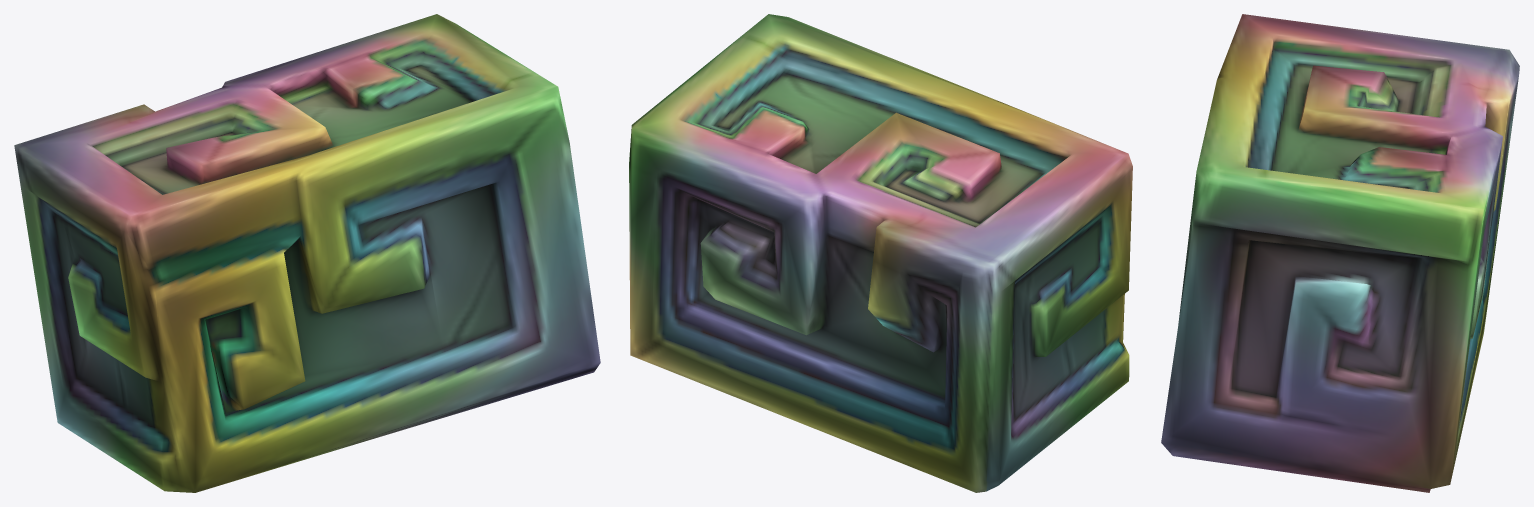
File: SM_Gem_Bismuth_005.fbx
3 renders of one model, left to right at view 1: azimuth 30°, elevation 25°; view 2: azimuth 150°, elevation 25°; view 3: azimuth 270°, elevation 25°, orthographic. The views are drawn at different scales.
Visible parts, largest first — view 1: SM_Gem_Bismuth_005; view 2: SM_Gem_Bismuth_005; view 3: SM_Gem_Bismuth_005.
Boxes of the visible parts, left/top/right/bottom form: SM_Gem_Bismuth_005: left=14, top=14, right=600, bottom=492; SM_Gem_Bismuth_005: left=629, top=14, right=1132, bottom=492; SM_Gem_Bismuth_005: left=1161, top=14, right=1519, bottom=492.
Size of the model in its own units: 31.76 by 22.93 by 21.7.
